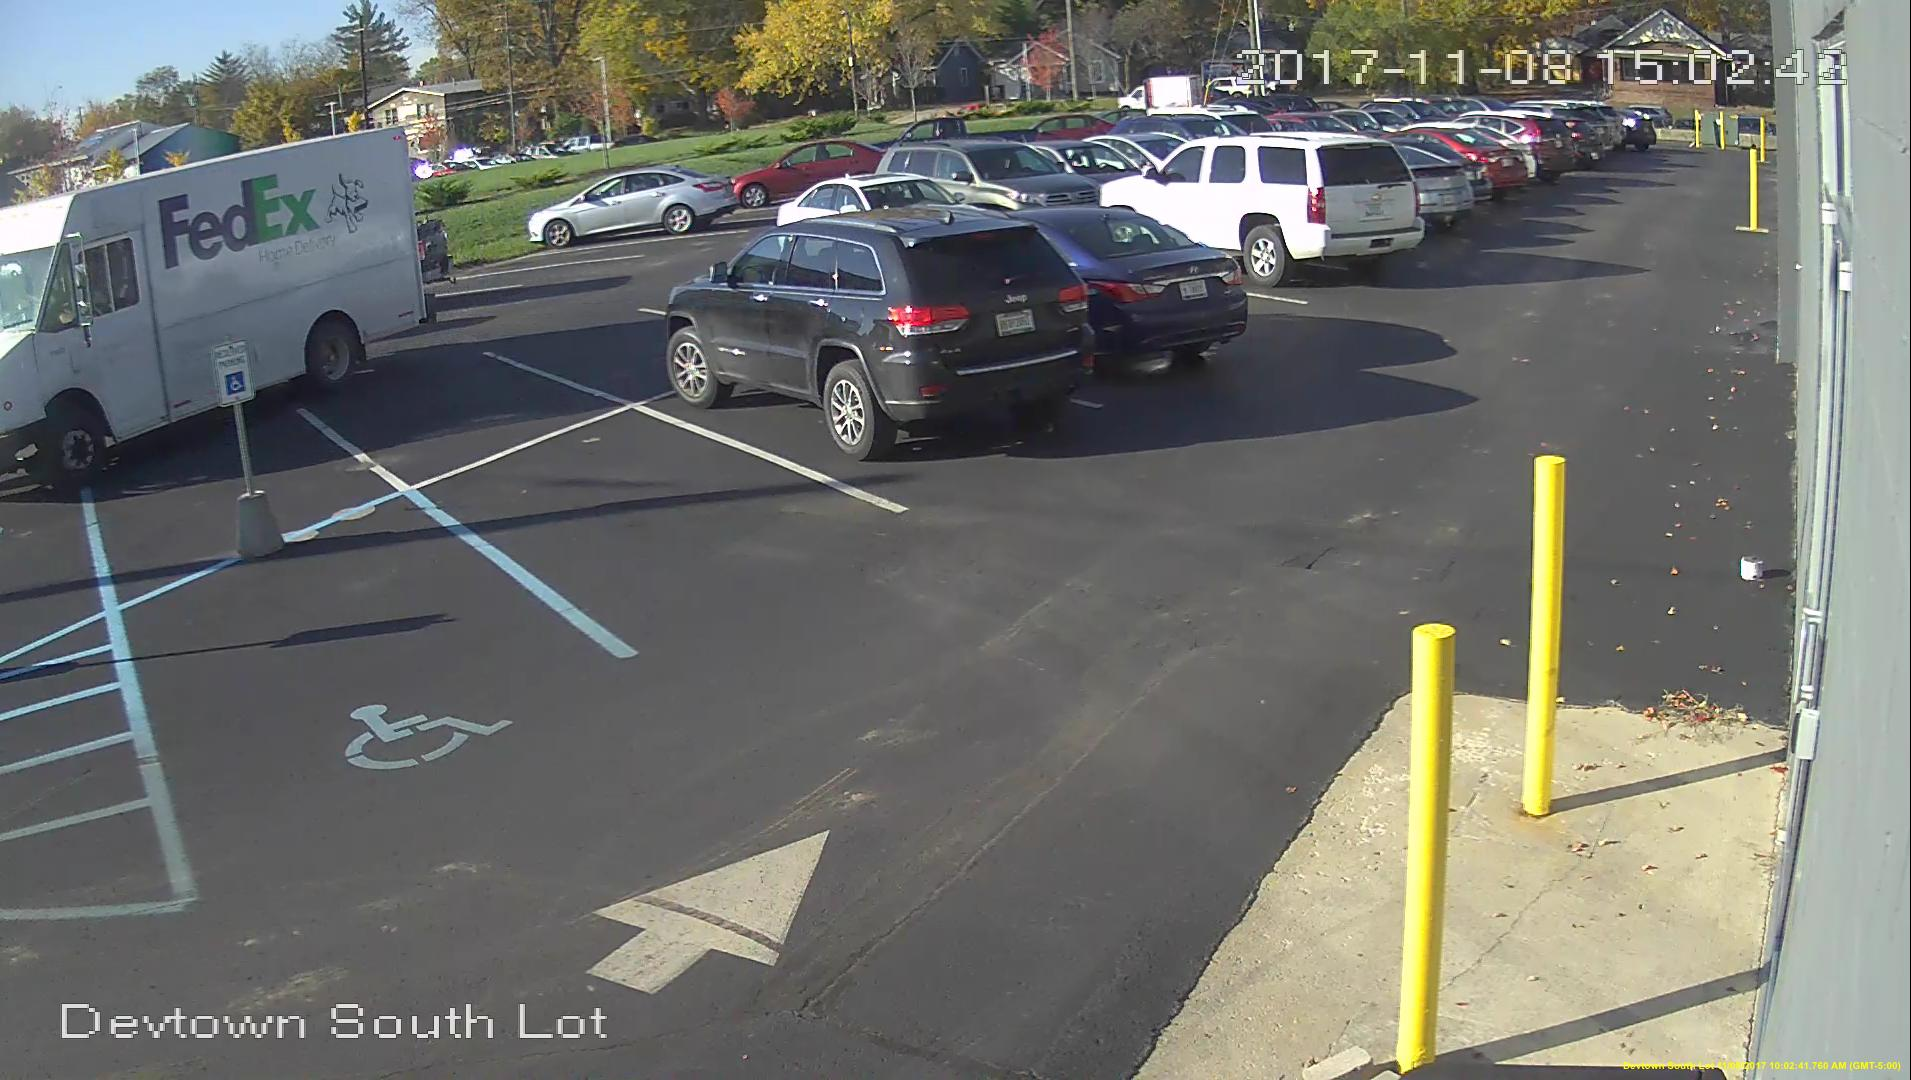fedex_truck: (1, 129, 434, 480)
